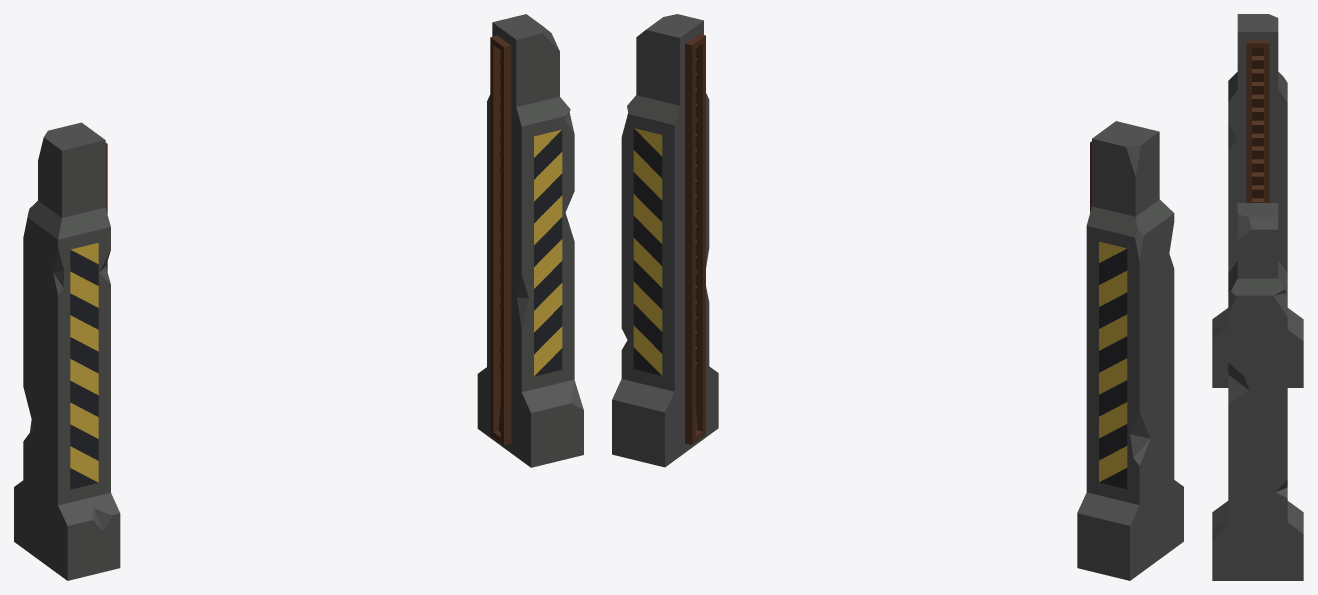
File: LPWarPack_MillitaryGateSides.fbx
3 views of the same model, side by side, from view 1: azimuth 30°, elevation 25°; view 2: azimuth 150°, elevation 25°; view 3: azimuth 270°, elevation 25° (orthographic). The views are drawn at different scales.
Parts seen in each view (by area): view 1: MillitaryGateSides; view 2: MillitaryGateSides; view 3: MillitaryGateSides.
Boxes of the visible parts, left/top/right/bottom form: MillitaryGateSides: left=14, top=14, right=583, bottom=580; MillitaryGateSides: left=612, top=14, right=1183, bottom=580; MillitaryGateSides: left=1212, top=14, right=1303, bottom=580.
Bounding box in the file's own units: 600 × 463 × 108.
